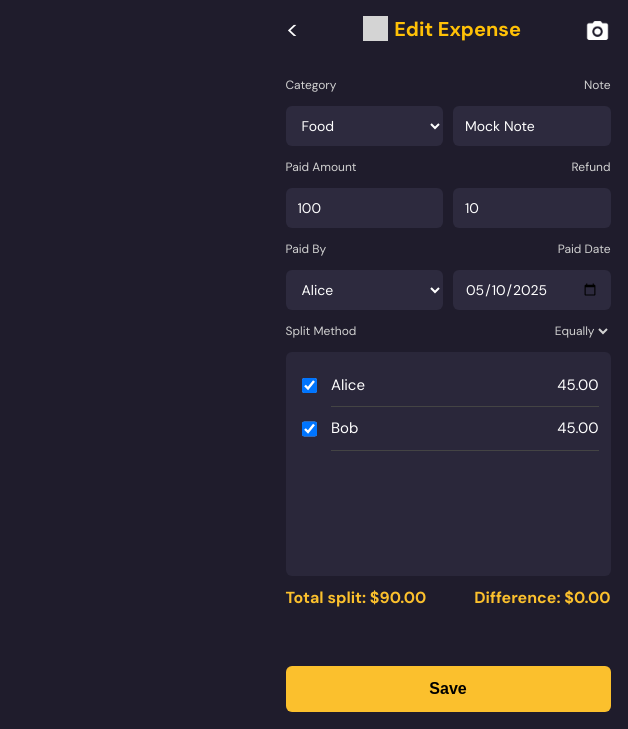
Test case: EditBillPage › shows validation error on incomplete submit
Expected: the field showing "Mock Note" is shown, [453,106,610,146]
Clear the 1st number field with placeholder "$ 0.00" at (364, 208), box [286,188,443,228]
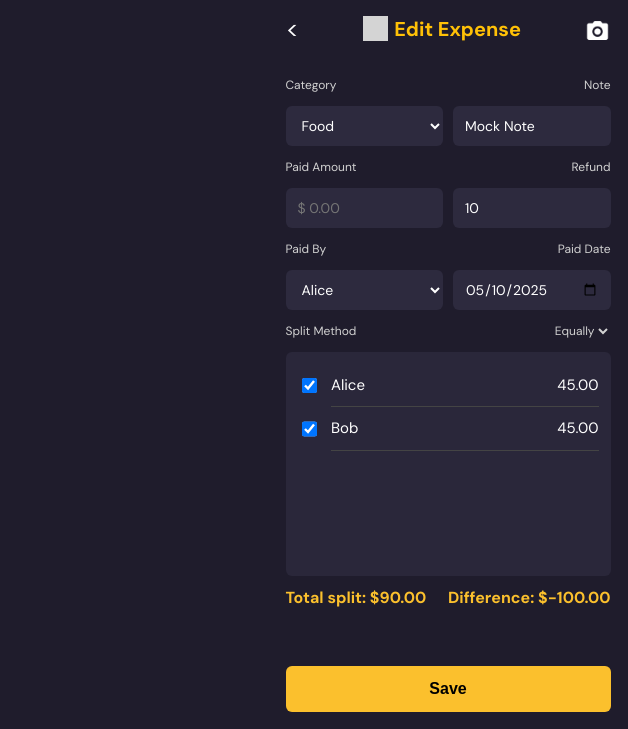
Click the button "Save".
click(448, 689)  # box [286,666,610,712]
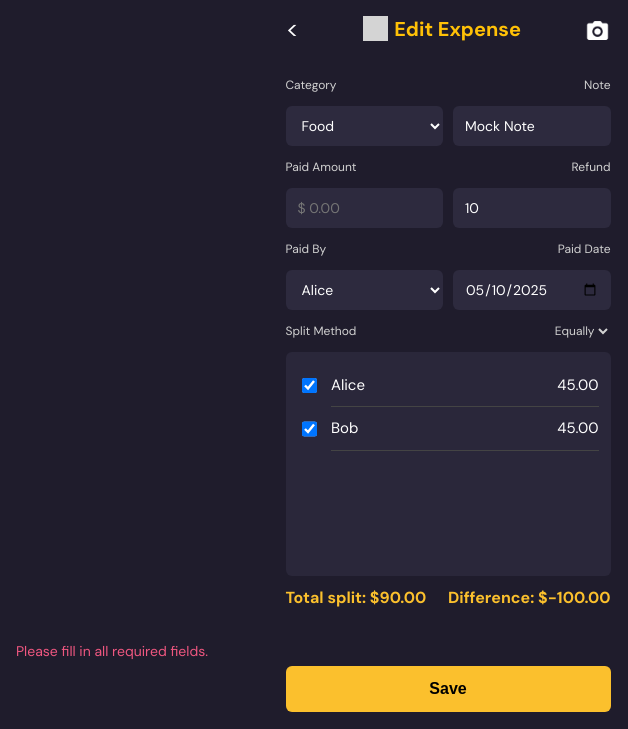
Now the text "Please fill in all required fields." is shown, box [16,641,208,662]
